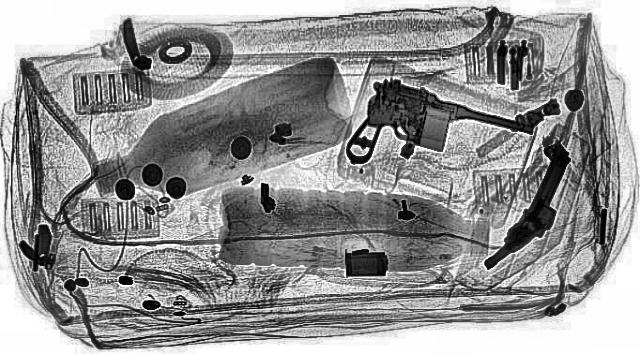Gun: (300, 77, 540, 195), (484, 139, 582, 272)
